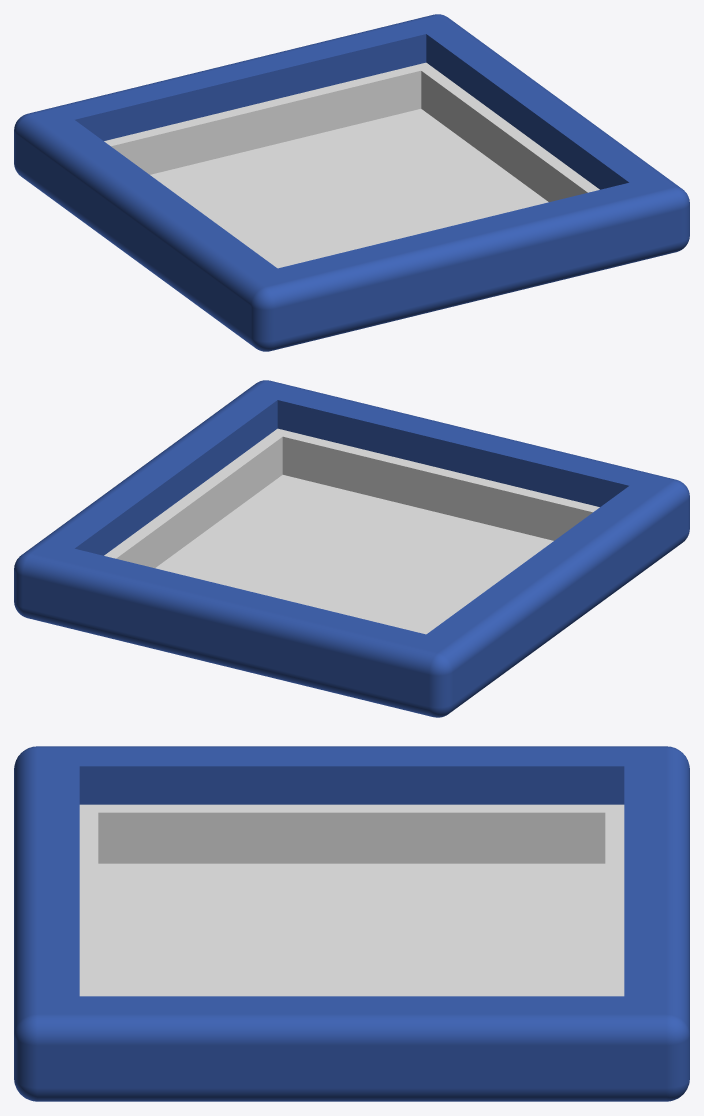
The picture shows the model from 3 angles, top to bottom: view 1: azimuth 30°, elevation 25°; view 2: azimuth 150°, elevation 25°; view 3: azimuth 270°, elevation 25°; orthographic projection. The views are drawn at different scales.
Parts seen in each view (by area): view 1: Part 3, Part 2; view 2: Part 3, Part 2; view 3: Part 3, Part 2.
Boxes of the visible parts, x1,y1,x2,y2 form: Part 3: (14,14,689,351); Part 2: (104,62,599,268); Part 3: (14,380,689,717); Part 2: (104,428,599,634); Part 3: (14,746,689,1101); Part 2: (79,804,624,996).
Bounding box in the file's own units: 0.9144 × 0.1381 × 0.9144.
